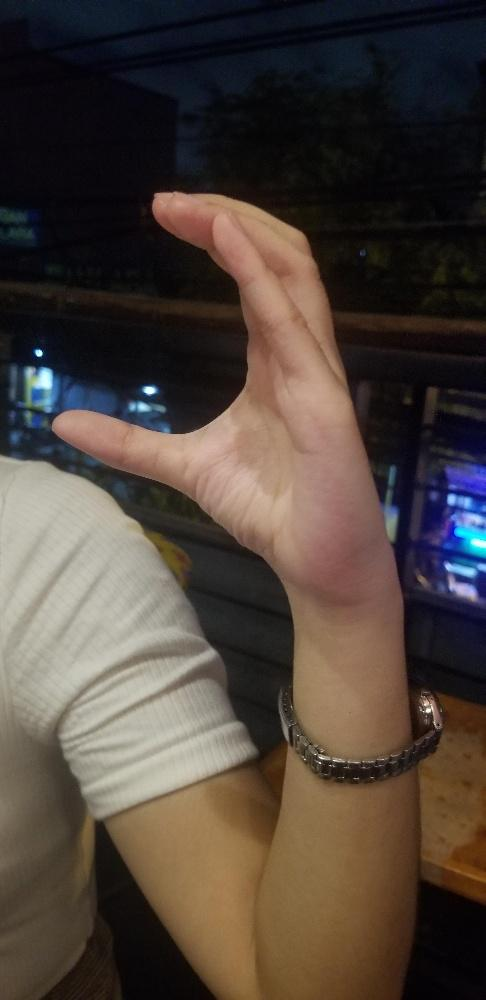c: (51, 185, 395, 586)
